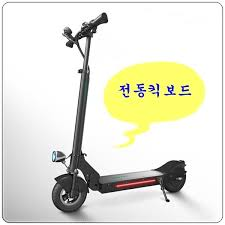kick_handler: (63, 12, 108, 48)
kick_wheel: (52, 175, 86, 212), (161, 160, 187, 193)
